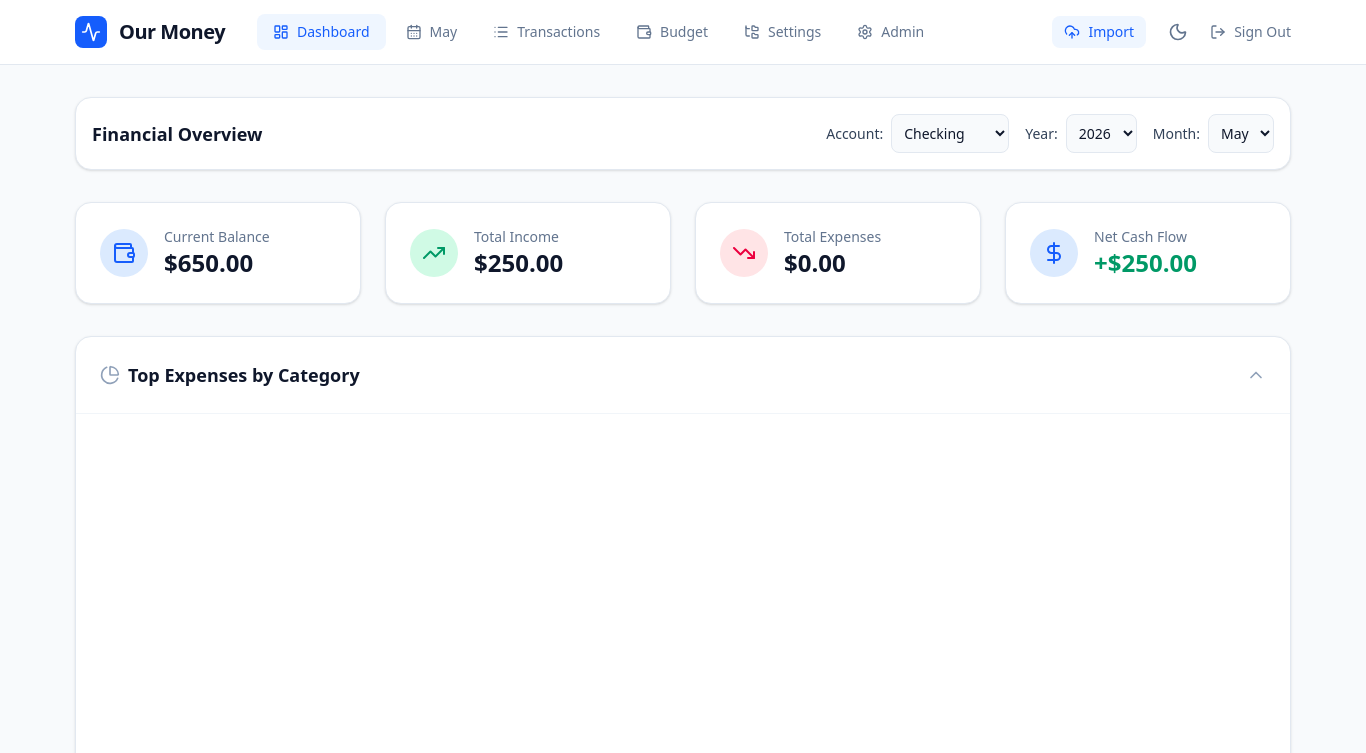
Test: App Component › correctly filters transactions passed to ThisMonthView based on selectedAccount
The width and height of the screenshot is (1366, 753).
Expected: the heading "Our Money" is shown, [119, 18, 225, 46]
Click the button "May" at [431, 32], box [390, 14, 473, 50]
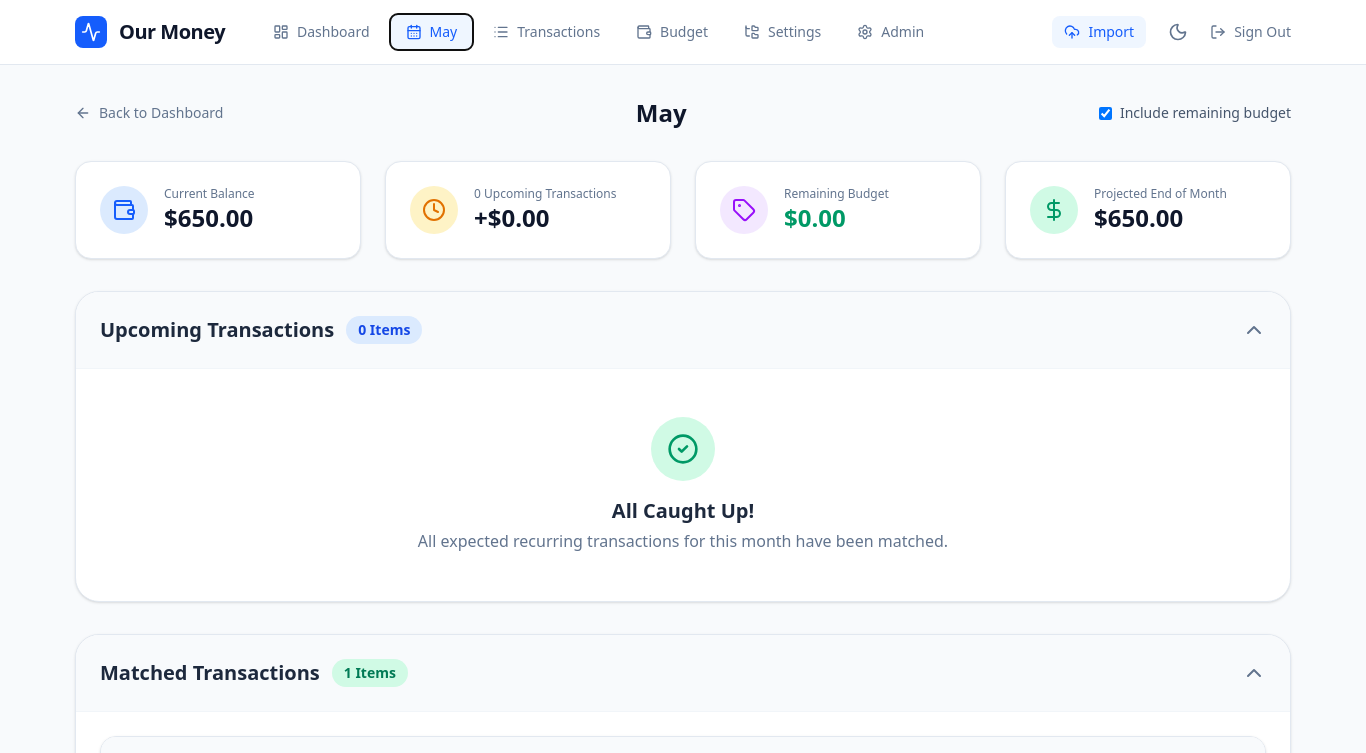
Expected: the text "Savings TX" is not shown
Expected: the heading "Matched Transactions" is shown, [100, 659, 320, 687]
Click the button "Transactions" at [547, 32], box [477, 14, 616, 50]
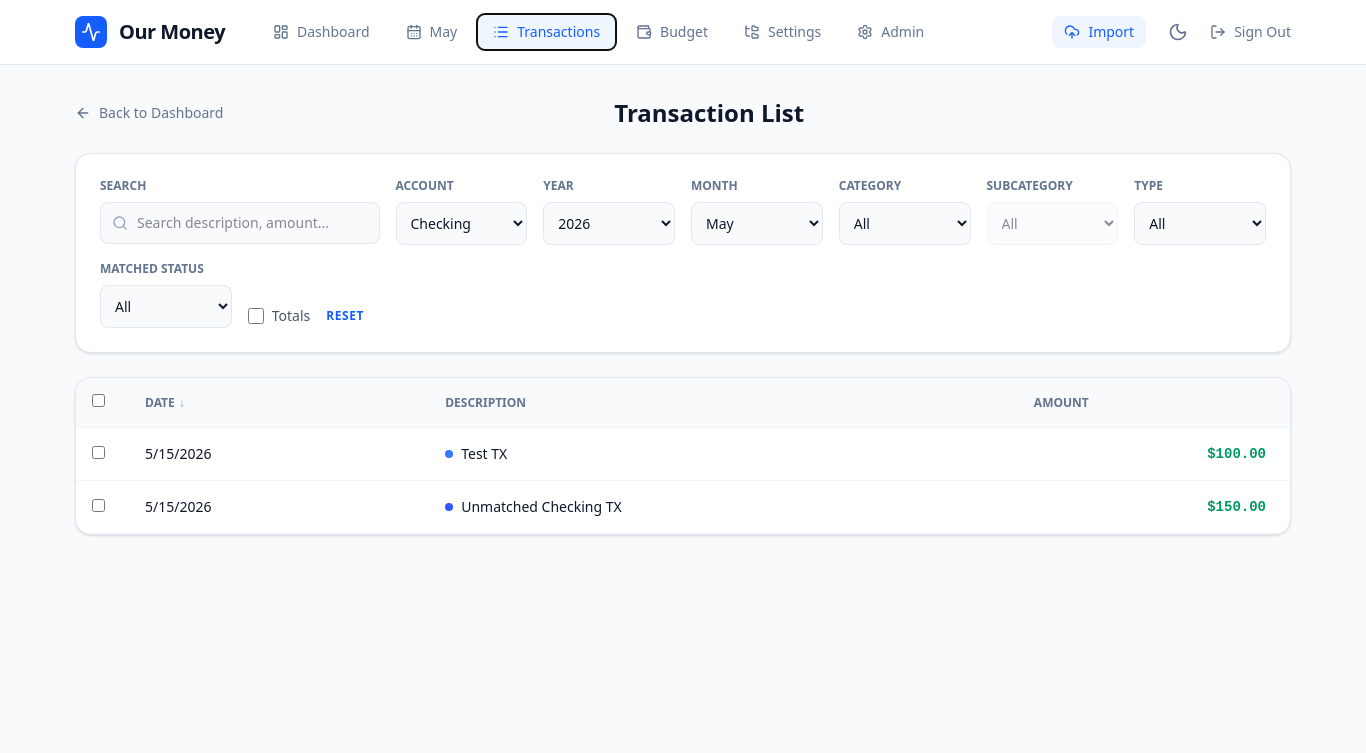
// Change account to 'Savings' via the Transactions dropdown
Select "Savings" in the dropdown labelled "Account" at [461, 224], box [396, 202, 527, 245]
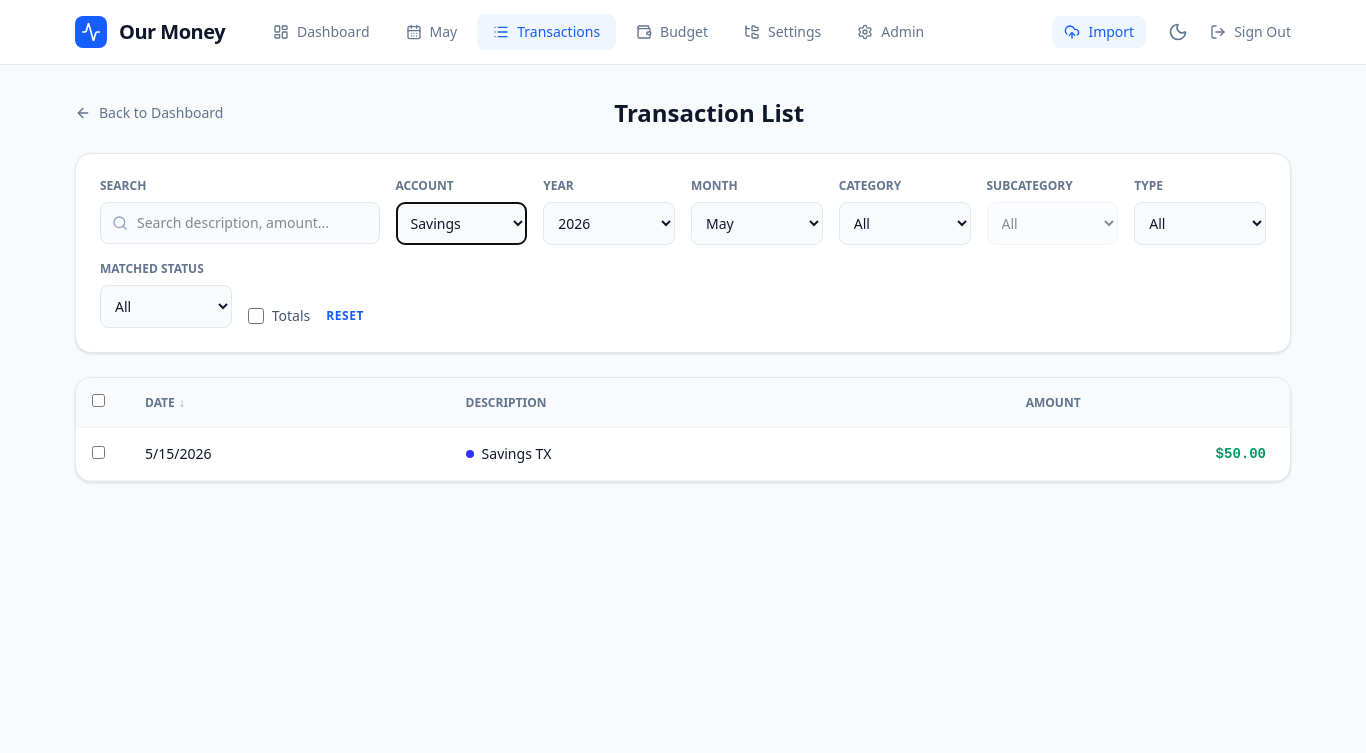
// Navigate back to "This Month" view
Click the button "May" at [431, 32], box [390, 14, 473, 50]
(page scrolled)
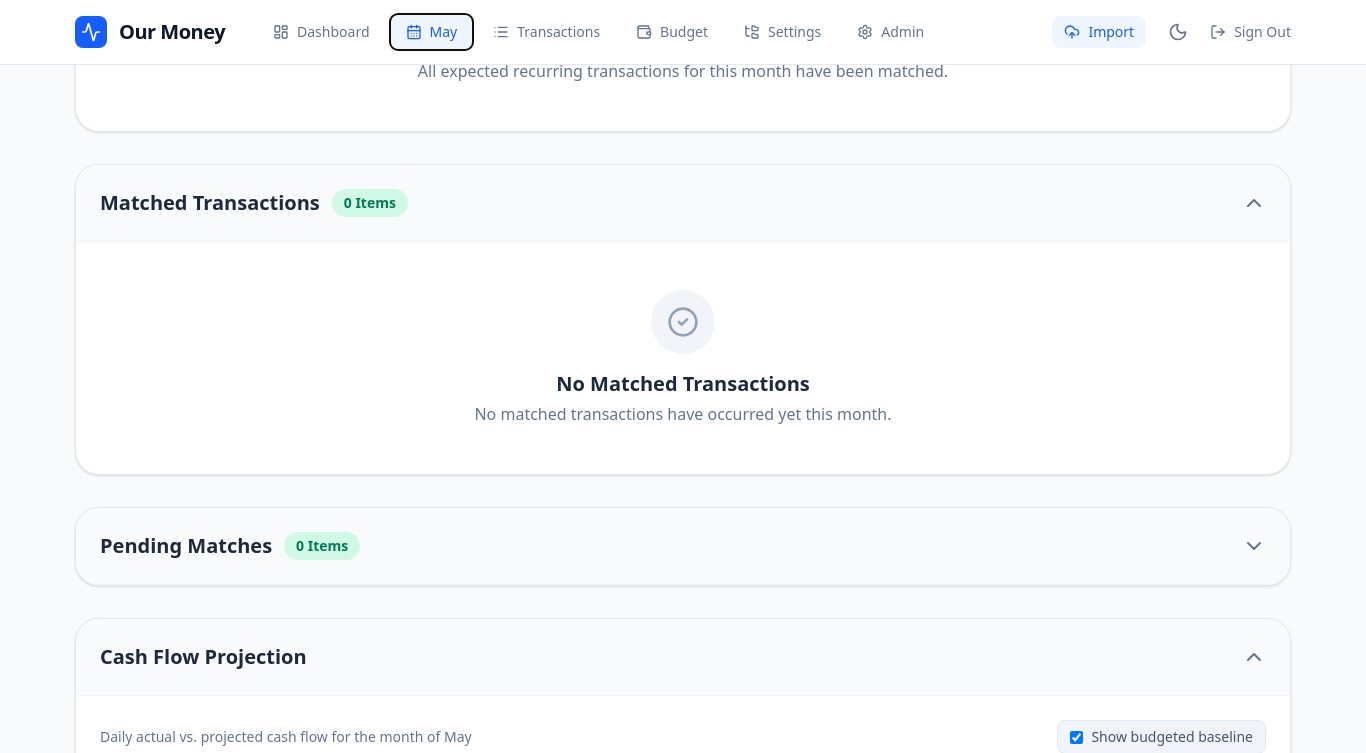
Expected: the text "Test TX" is not shown
Expected: the text "No Matched Transactions" is shown, [556, 370, 810, 398]
